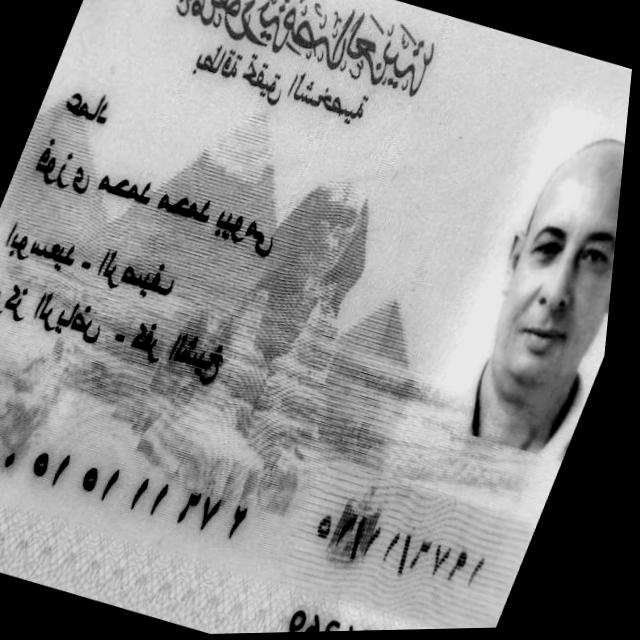id_card: (0, 0, 632, 634)
